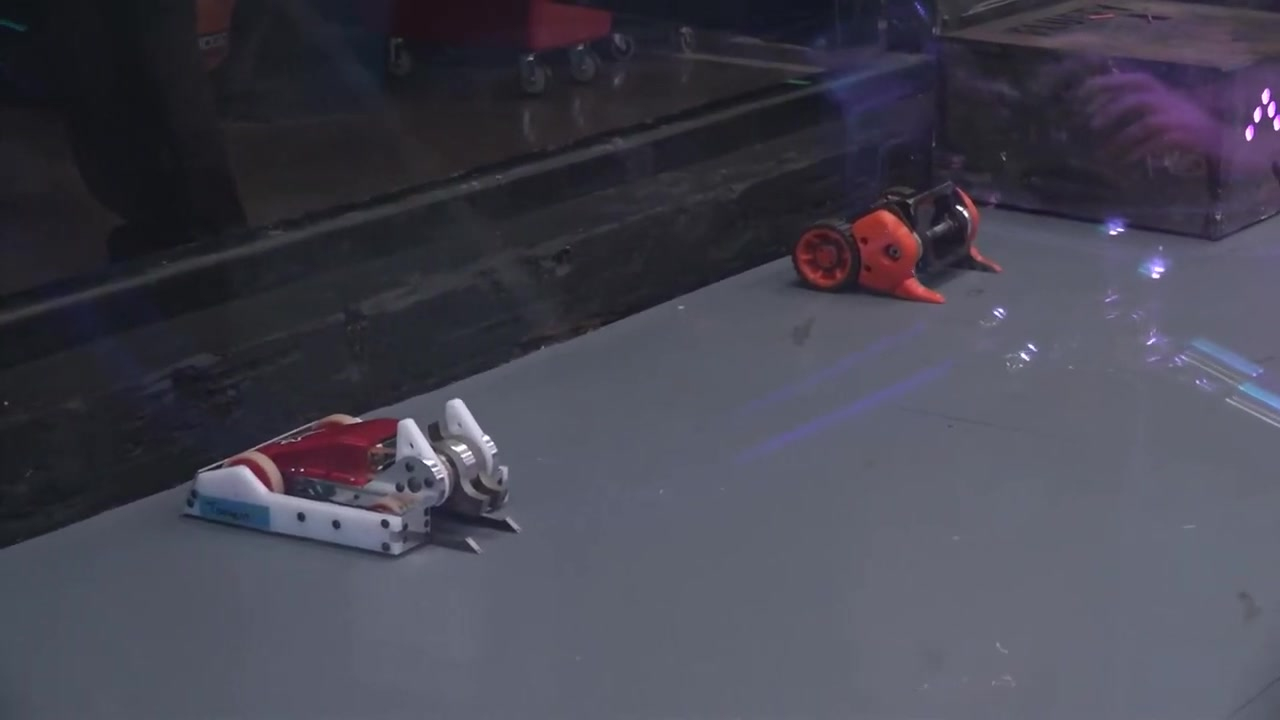combatbot: (185, 406, 515, 561), (789, 183, 1002, 308)
housebot: (937, 0, 1280, 243)
